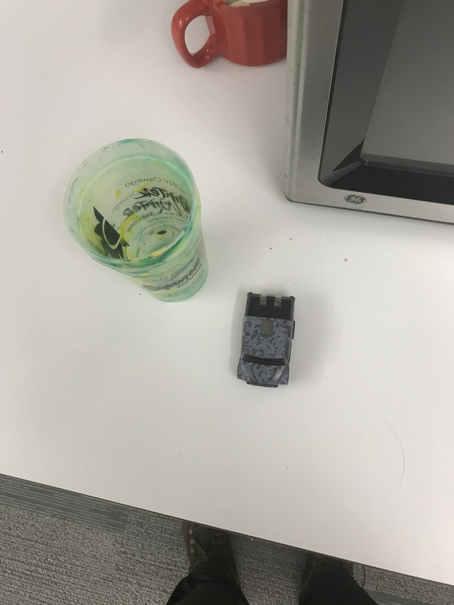MXT: (232, 289, 299, 387)
